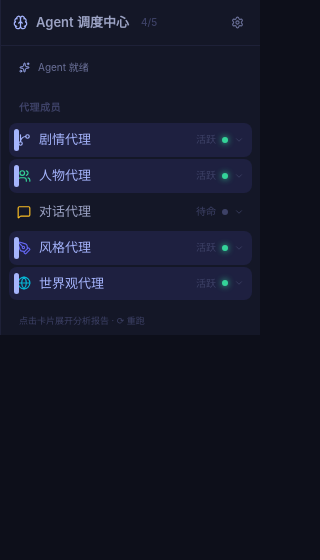
Test: AgentPanel › expands agent detail on click and shows mock outputs
The width and height of the screenshot is (320, 560).
# Click the first agent (剧情代理)
Click the button "剧情代理 活跃" at point(130, 140), box [9,123,252,157]
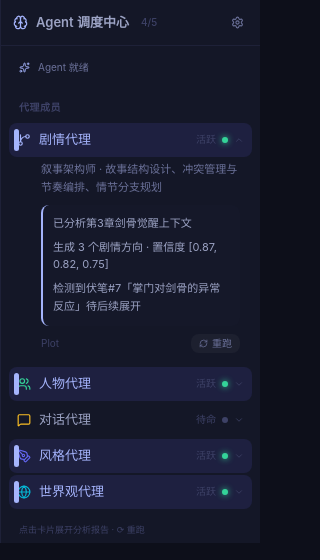
Result: the text "叙事架构师 · 故事结构设计、冲突管理与节奏编排、情节分支规划" is shown at [41,161,240,197]
Result: the text "已分析第3章剑骨觉醒上下文" is shown at [53,216,192,230]
Result: the text "生成 3 个剧情方向 · 置信度 [0.87, 0.82, 0.75]" is shown at [53,238,230,274]
